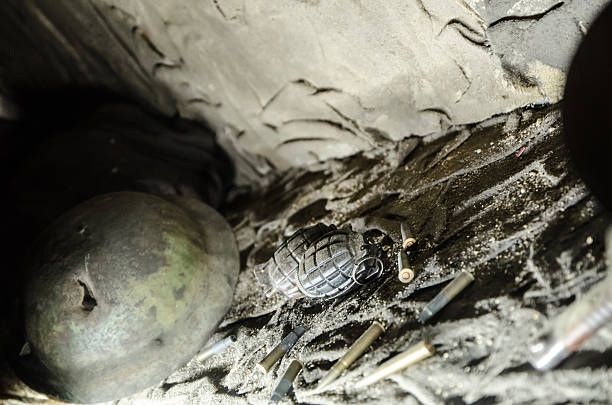e1: (297, 231, 388, 300)
